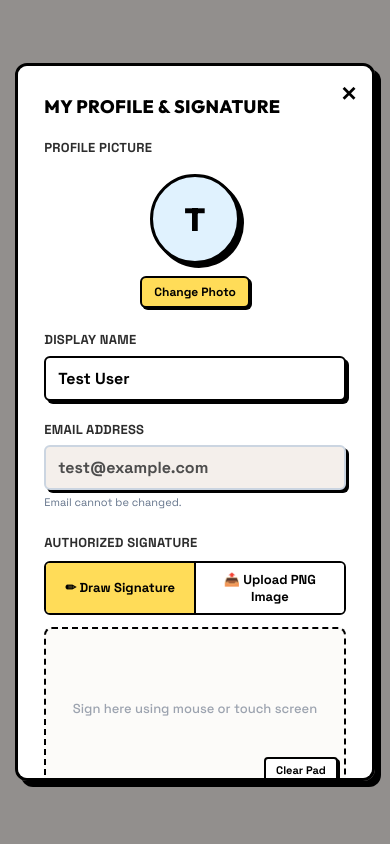
Test: ProfileModal › switches between draw and upload tabs
Expected: the button "✏ Draw Signature" is shown, [46,562,196,612]
Click the button "📤 Upload PNG Image" at (270, 588), box [196,562,344,612]
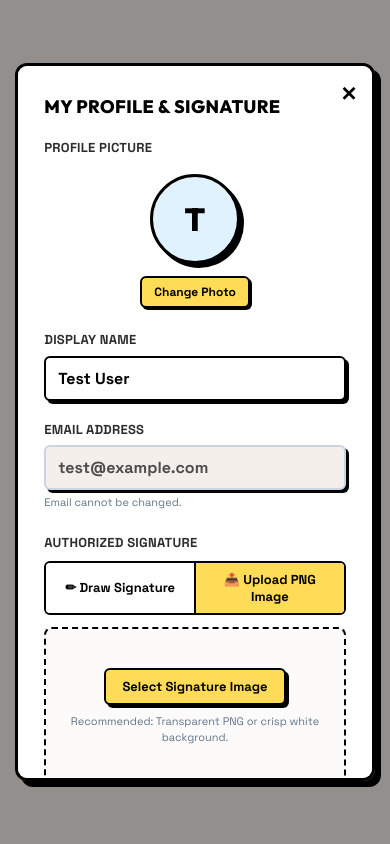
Now the button "Select Signature Image" is shown, box [104,668,286,704]
Click the button "✏ Draw Signature" at (121, 588), box [46,562,196,612]
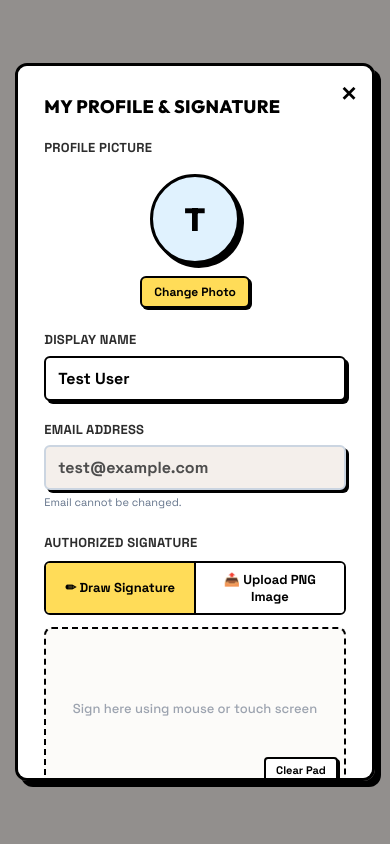
Now the text "Sign here using mouse or touch screen" is shown, box [73,700,317,717]
